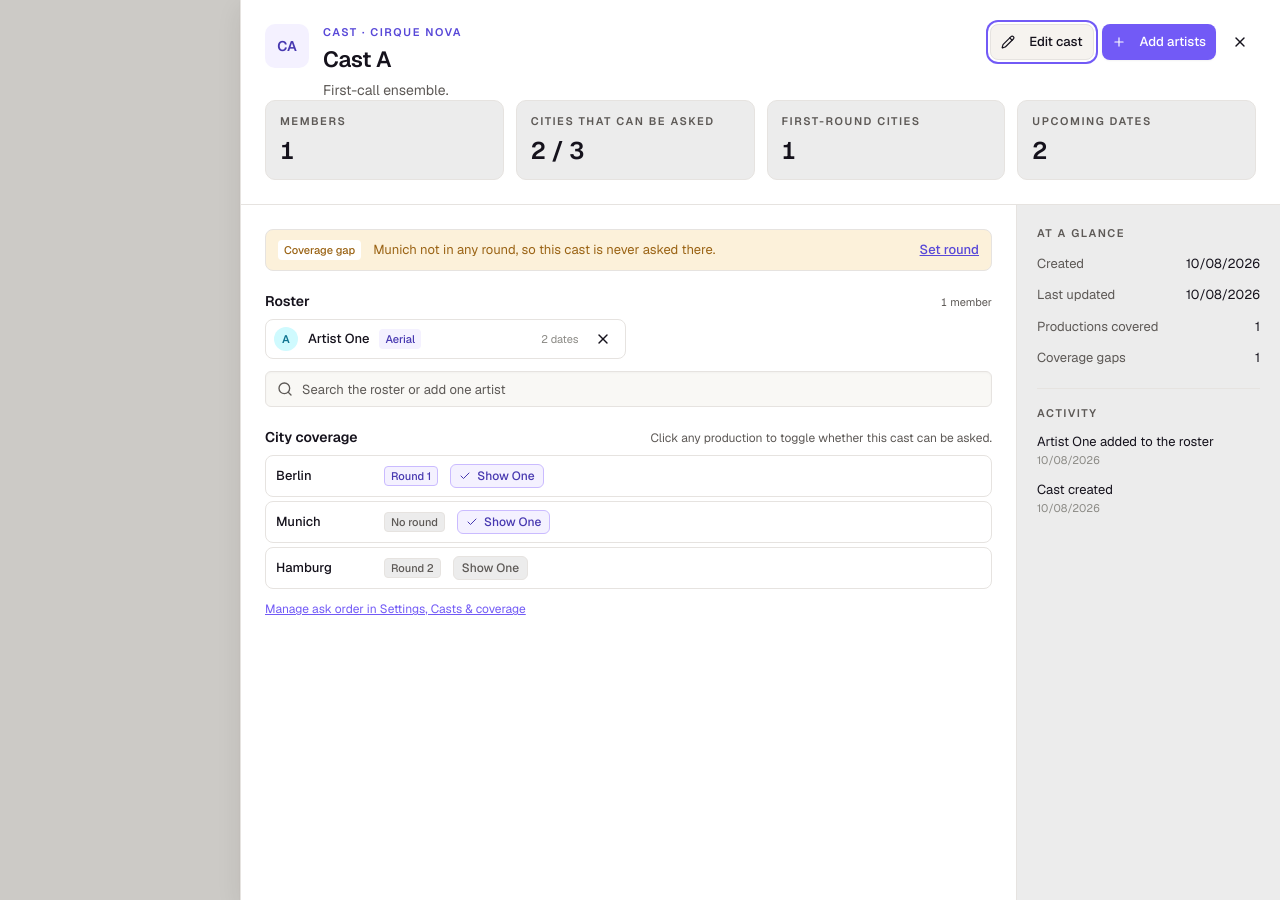
Scenario: CastDetailsSheet (design 2a) › manage_casts on: edit, remove, and add controls are enabled
Expected: the button "Artist One" is shown, [308,329,370,349]
Expected: the button "Edit cast" is enabled, [990,24,1094,60]
# Search reveals the addable candidate.
Type "Artist Two" into the field with placeholder "Search the roster or add one artist" at (628, 389), box [265,371,992,407]
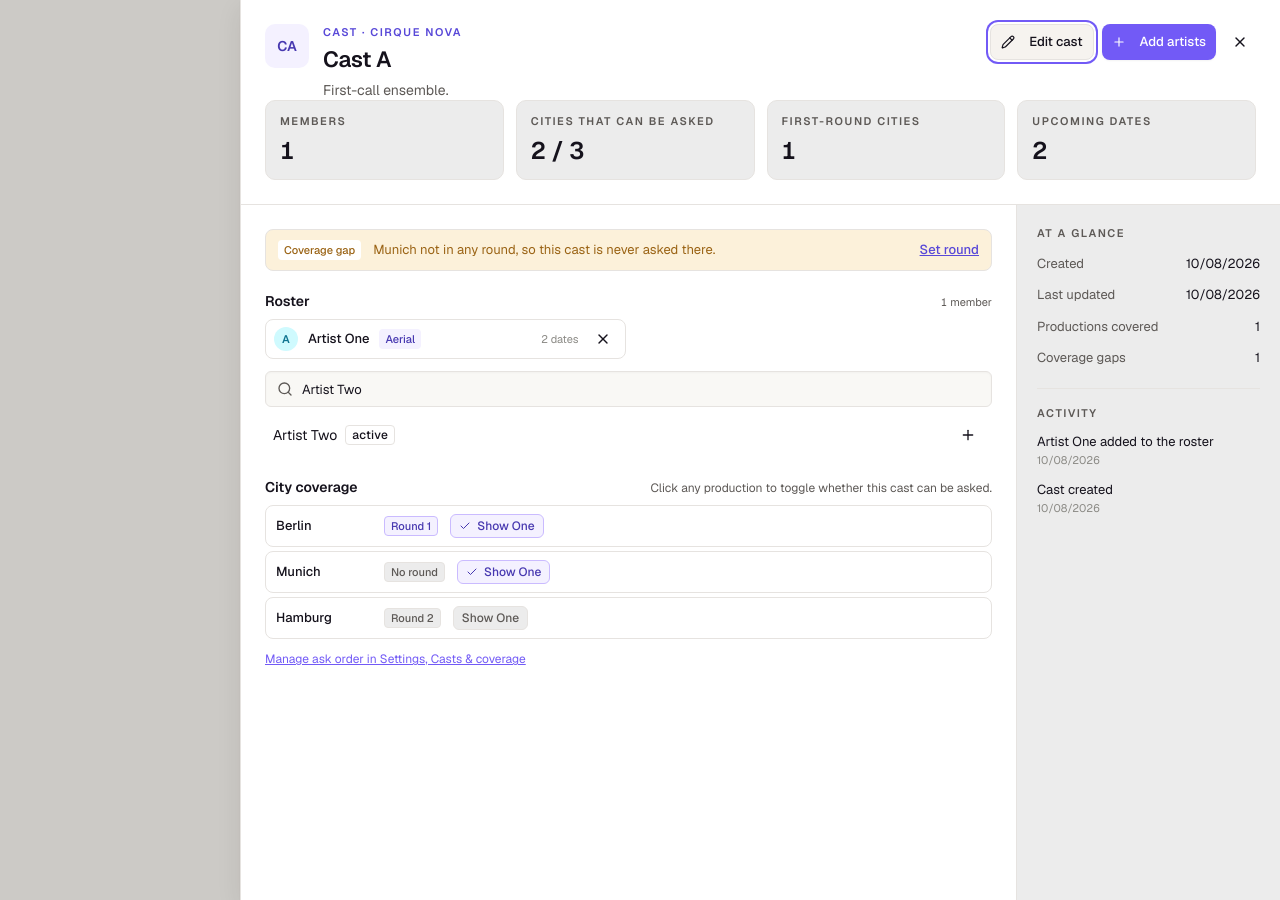
Expected: the 6th button is enabled, [952,419,984,451]
